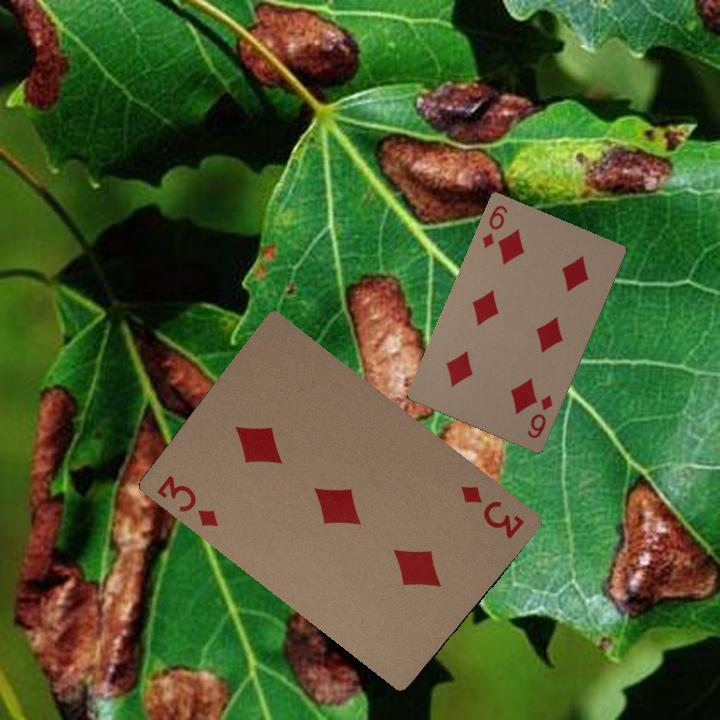3d: (456, 480, 527, 542), (152, 471, 221, 530)
6d: (523, 391, 555, 441), (478, 201, 510, 251)
